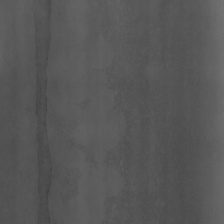water_spot: (28, 9, 65, 224)
